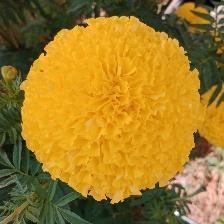marigold: (24, 14, 206, 204), (199, 75, 224, 153)
